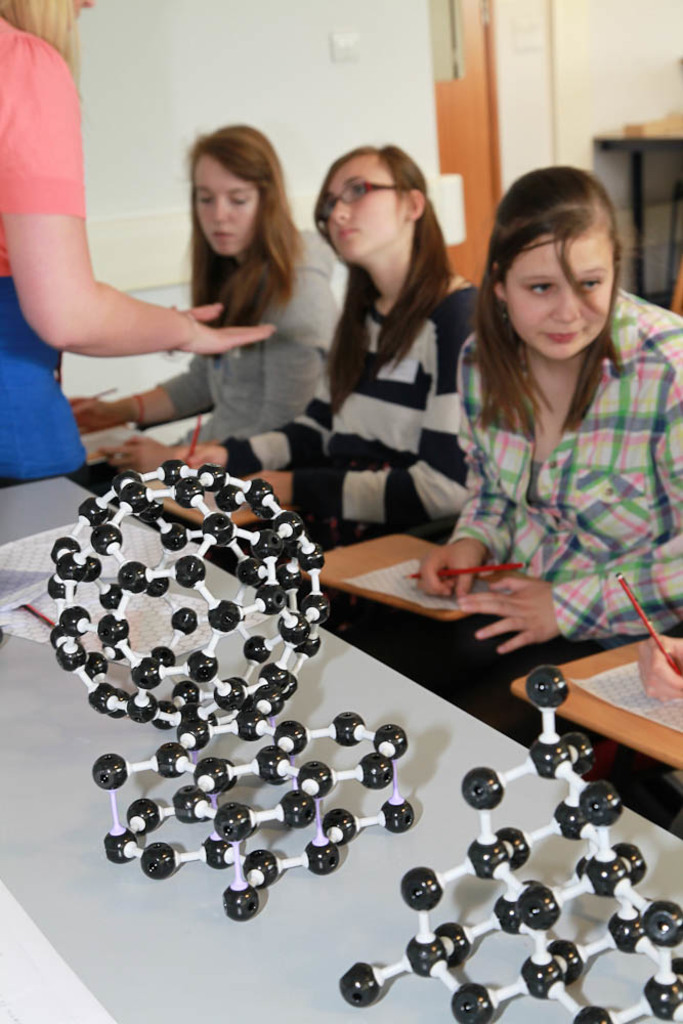Human_hand: (449, 561, 581, 662), (416, 540, 486, 598), (636, 632, 682, 701), (99, 429, 176, 470), (178, 323, 279, 353), (234, 469, 295, 516), (68, 394, 125, 428), (176, 440, 229, 470), (178, 303, 224, 322)
